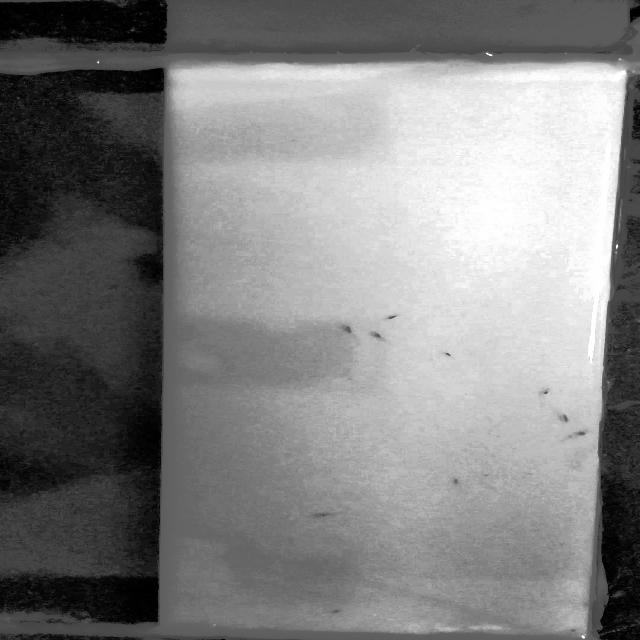shrimp: (431, 343, 466, 363), (309, 507, 338, 528), (334, 322, 364, 341), (363, 324, 392, 343), (527, 386, 565, 399), (380, 309, 412, 323), (572, 428, 596, 439), (316, 604, 319, 604)
